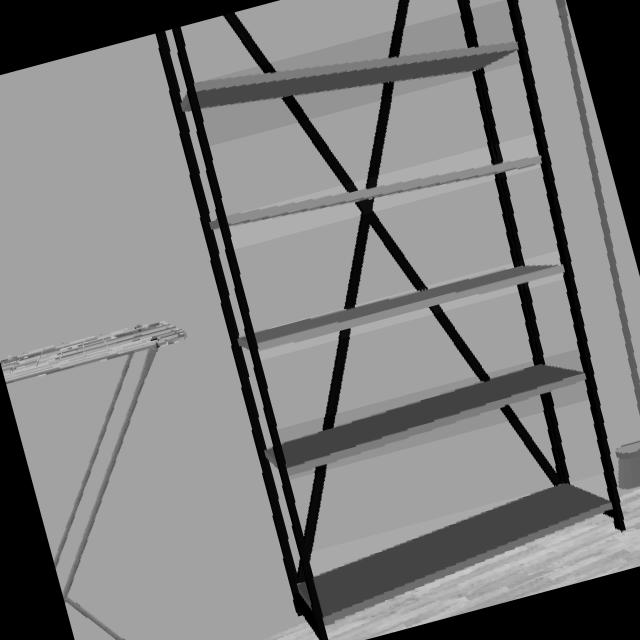shelf: (315, 483, 615, 623), (282, 359, 588, 476), (257, 264, 567, 353), (228, 154, 544, 228), (196, 43, 520, 112)
